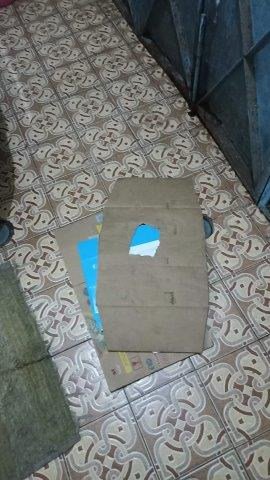kardus: (53, 177, 205, 380)
